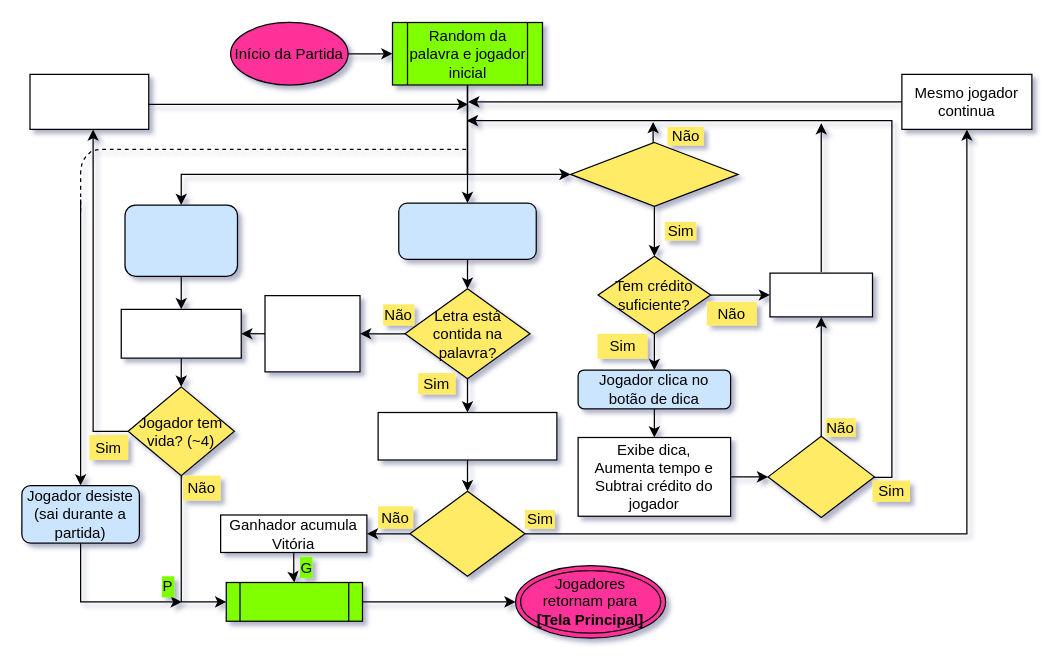
The diagram is 1061 pixels wide and 668 high, and some of its shapes have lost their labels. The centre of each missing label's shape, as x and y in pixels:
"Ainda tem dica? (~3)" belongs at (x=820, y=476).
"Botão de dica habilitado?" belongs at (x=653, y=173).
"Desabilita botão de dicas" belongs at (x=820, y=294).
"Falta letra na palavra?" belongs at (x=467, y=533).
"Fim da Partida" belongs at (x=293, y=601).
"Jogador clica em letra" belongs at (x=467, y=230).
"Jogador não clica durante 5 segundos" belongs at (x=181, y=240).
"Jogador perde vida" belongs at (x=180, y=333).
"Letra exibida em vermelho no alfabeto" belongs at (x=312, y=333).
"Letra é exibida na palavra e em azul no alfabeto" belongs at (x=467, y=435).
"Troca a vez do jogador" belongs at (x=89, y=101).
